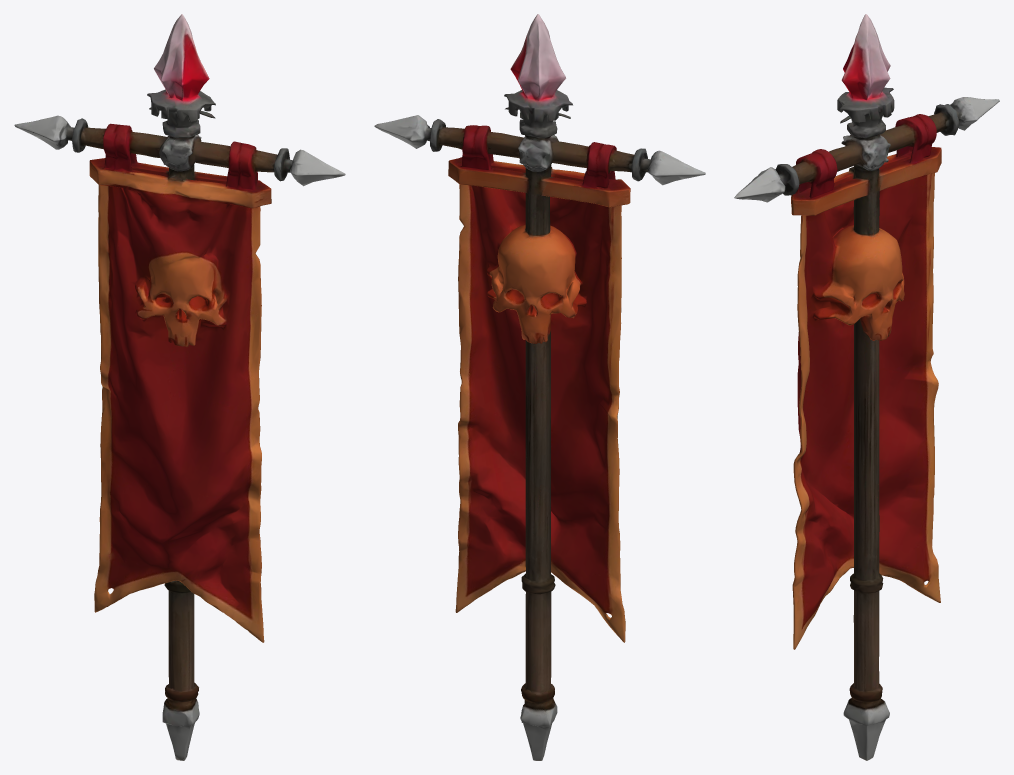
The model's file is war_banner-DPBUfoaQ.glb.
3 renders of one model, left to right at view 1: azimuth 30°, elevation 25°; view 2: azimuth 210°, elevation 25°; view 3: azimuth 270°, elevation 25°, orthographic.
Visible parts, largest first — view 1: tripo_node_3f897093-cc04-4818-8bd0-ff4c862fb32b; view 2: tripo_node_3f897093-cc04-4818-8bd0-ff4c862fb32b; view 3: tripo_node_3f897093-cc04-4818-8bd0-ff4c862fb32b.
Part boxes in pixels (box(x1,y1,x2,y2)): tripo_node_3f897093-cc04-4818-8bd0-ff4c862fb32b: box(14, 14, 345, 760); tripo_node_3f897093-cc04-4818-8bd0-ff4c862fb32b: box(374, 14, 705, 760); tripo_node_3f897093-cc04-4818-8bd0-ff4c862fb32b: box(734, 14, 999, 760).
Size of the model in its own units: 0.28 by 1 by 0.3235.
Materials: 1 (1 with a texture image).
